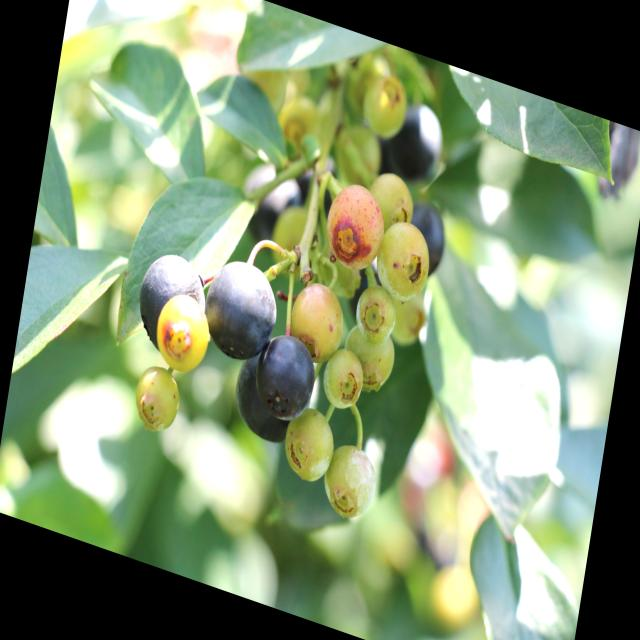blueberry: (195, 246, 285, 378), (128, 240, 215, 368), (227, 341, 311, 454), (232, 150, 310, 264), (373, 88, 452, 196), (248, 322, 323, 432), (394, 188, 454, 286), (286, 136, 349, 223), (338, 248, 391, 334)
blueberry-halfripe: (319, 168, 392, 278)
blueberry-unripe: (317, 432, 383, 531), (372, 210, 438, 308), (284, 270, 350, 366), (276, 399, 339, 497), (151, 285, 215, 377), (128, 356, 187, 440), (344, 316, 399, 393), (358, 66, 410, 142), (320, 341, 370, 416), (367, 166, 418, 233), (354, 281, 399, 349)
